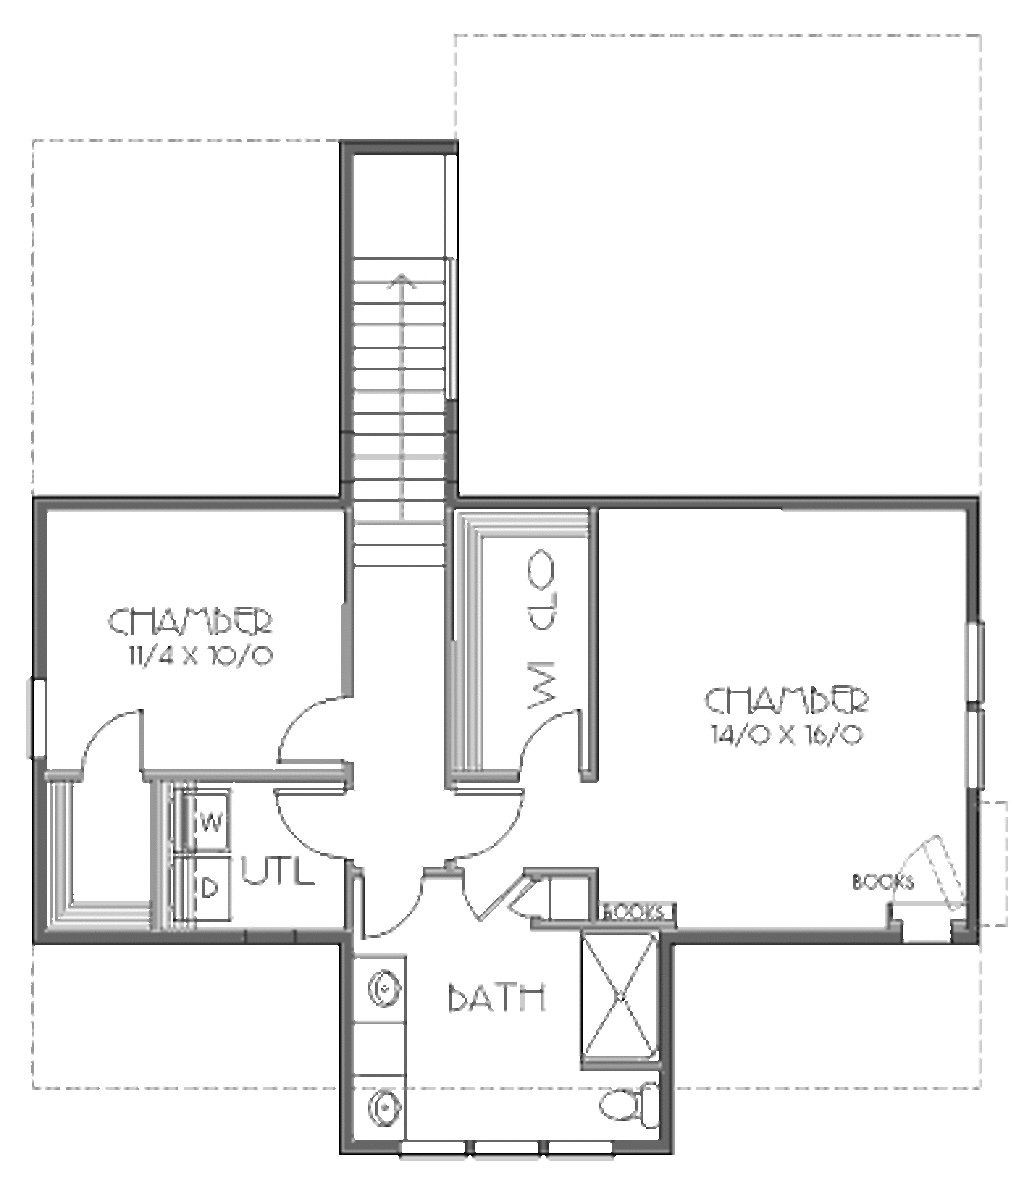door: (449, 782, 527, 866), (272, 782, 356, 858), (263, 696, 354, 766), (352, 869, 427, 944), (78, 706, 149, 778), (521, 700, 581, 776), (460, 864, 518, 927), (501, 873, 545, 929)
large_sink: (581, 1078, 660, 1136)
small_sink: (345, 951, 420, 1144)
stairs: (343, 246, 447, 567)
window: (965, 620, 989, 707), (968, 709, 991, 793), (541, 1131, 614, 1158), (25, 676, 47, 760), (400, 1135, 467, 1158), (471, 1135, 534, 1155)
